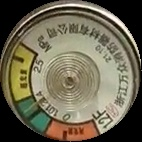green: (16, 97, 51, 138)
needle: (24, 91, 48, 115)
red: (44, 118, 101, 142)
yellow: (9, 40, 37, 103)
